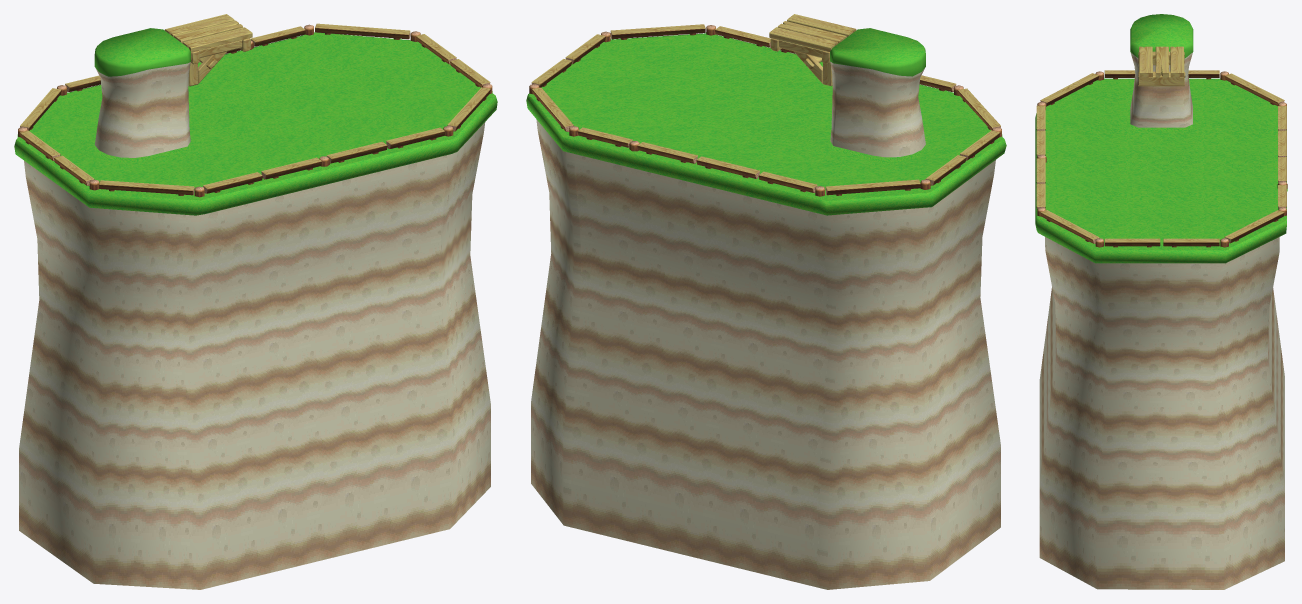
The model's file is lobby.glb.
3 renders of one model, left to right at view 1: azimuth 30°, elevation 25°; view 2: azimuth 150°, elevation 25°; view 3: azimuth 270°, elevation 25°, orthographic. The views are drawn at different scales.
Visible parts, largest first — view 1: AquariumSwimGoal.002, AquariumSwimGoal.003, AquariumSwimGoal.005, AquariumSwimGoal, AquariumSwimGoal.001, AquariumSwimGoal.004; view 2: AquariumSwimGoal.002, AquariumSwimGoal.003, AquariumSwimGoal.005, AquariumSwimGoal, AquariumSwimGoal.001, AquariumSwimGoal.004; view 3: AquariumSwimGoal.002, AquariumSwimGoal.003, AquariumSwimGoal.005, AquariumSwimGoal, AquariumSwimGoal.001, AquariumSwimGoal.004.
Boxes of the visible parts, x1,y1,x2,y2 form: AquariumSwimGoal.002: (19,62,490,507); AquariumSwimGoal.003: (14,28,497,215); AquariumSwimGoal.005: (19,405,490,589); AquariumSwimGoal: (18,14,492,197); AquariumSwimGoal.001: (17,32,492,200); AquariumSwimGoal.004: (94,28,190,76); AquariumSwimGoal.002: (531,62,1000,507); AquariumSwimGoal.003: (526,28,1006,215); AquariumSwimGoal.005: (531,402,1000,589); AquariumSwimGoal: (529,14,1001,196); AquariumSwimGoal.001: (529,32,1002,199); AquariumSwimGoal.004: (830,28,925,76); AquariumSwimGoal.002: (1039,52,1284,518); AquariumSwimGoal.003: (1035,14,1286,263); AquariumSwimGoal.005: (1039,486,1284,589); AquariumSwimGoal: (1036,46,1287,247); AquariumSwimGoal.001: (1037,78,1287,250); AquariumSwimGoal.004: (1130,14,1193,57).
Size of the model in its own units: 2618 by 2996 by 1612.
6 materials, 6 textured.
